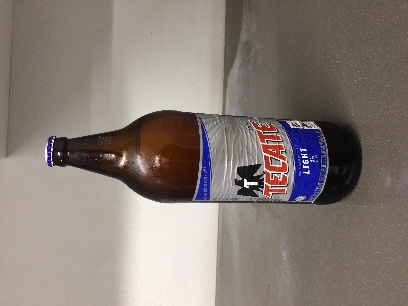TLB: (30, 79, 264, 149)
